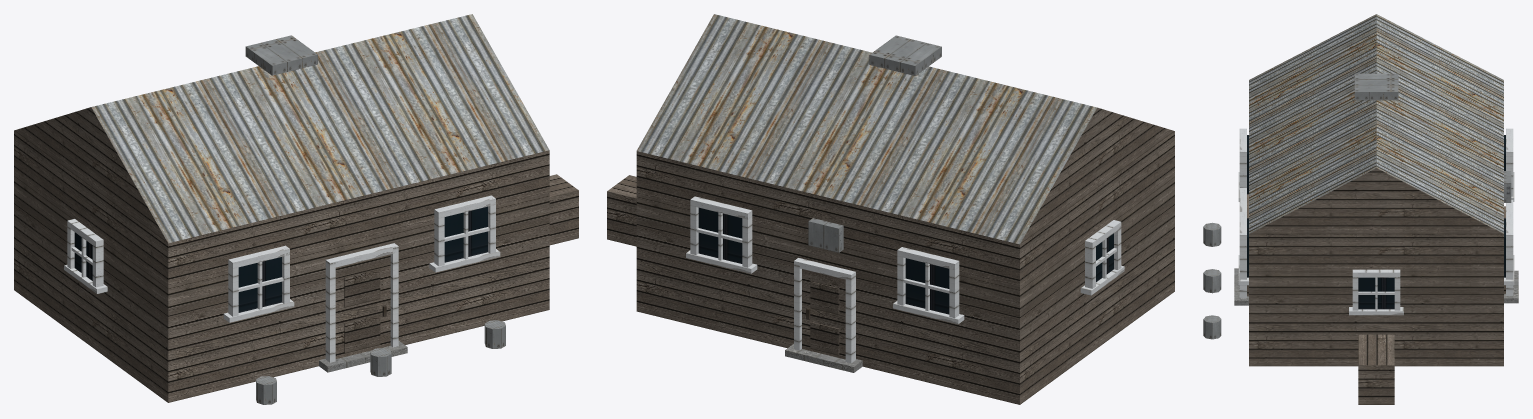
File: maple-sugar-shack_lod0.gltf
3 renders of one model, left to right at view 1: azimuth 30°, elevation 25°; view 2: azimuth 150°, elevation 25°; view 3: azimuth 270°, elevation 25°, orthographic. The views are drawn at different scales.
Visible parts, largest first — view 1: maple-sugar-shack_walls, maple-sugar-shack_roof, maple-sugar-shack_fen_20-white-clapboard_0, maple-sugar-shack_gable_ends, maple-sugar-shack_fen_07-glass-curtain-blue_5_t, maple-sugar-shack_fen_18-timber-siding_1, maple-sugar-shack_fen_18-timber-siding_2_t, maple-sugar-shack__cupola, maple-sugar-shack__firewood, maple-sugar-shack_fen_06-granite_4, maple-sugar-shack__sap_bucket_b, maple-sugar-shack__sap_bucket_c (+1 smaller); view 2: maple-sugar-shack_walls, maple-sugar-shack_roof, maple-sugar-shack_fen_20-white-clapboard_0, maple-sugar-shack_gable_ends, maple-sugar-shack_fen_07-glass-curtain-blue_5_t, maple-sugar-shack_fen_18-timber-siding_1, maple-sugar-shack__cupola, maple-sugar-shack__firewood, maple-sugar-shack_fen_18-timber-siding_2_t, maple-sugar-shack_fen_14-steel-panel_6, maple-sugar-shack_fen_06-granite_4; view 3: maple-sugar-shack_roof, maple-sugar-shack_walls, maple-sugar-shack_gable_ends, maple-sugar-shack_fen_20-white-clapboard_0, maple-sugar-shack__firewood, maple-sugar-shack_fen_07-glass-curtain-blue_5_t, maple-sugar-shack__cupola, maple-sugar-shack_fen_06-granite_4, maple-sugar-shack__sap_bucket_a, maple-sugar-shack__sap_bucket_b, maple-sugar-shack__sap_bucket_c.
Boxes of the visible parts, x1=… form: maple-sugar-shack_walls: x1=14, y1=130, x2=549, y2=402; maple-sugar-shack_roof: x1=91, y1=14, x2=549, y2=243; maple-sugar-shack_fen_20-white-clapboard_0: x1=64, y1=195, x2=500, y2=362; maple-sugar-shack_gable_ends: x1=14, y1=107, x2=167, y2=242; maple-sugar-shack_fen_07-glass-curtain-blue_5_t: x1=74, y1=206, x2=487, y2=312; maple-sugar-shack_fen_18-timber-siding_1: x1=335, y1=254, x2=390, y2=358; maple-sugar-shack_fen_18-timber-siding_2_t: x1=344, y1=268, x2=380, y2=353; maple-sugar-shack__cupola: x1=245, y1=35, x2=317, y2=75; maple-sugar-shack__firewood: x1=549, y1=174, x2=578, y2=245; maple-sugar-shack_fen_06-granite_4: x1=319, y1=341, x2=407, y2=372; maple-sugar-shack__sap_bucket_b: x1=370, y1=348, x2=391, y2=376; maple-sugar-shack__sap_bucket_c: x1=484, y1=320, x2=505, y2=348; maple-sugar-shack_walls: x1=636, y1=131, x2=1174, y2=404; maple-sugar-shack_roof: x1=636, y1=14, x2=1097, y2=244; maple-sugar-shack_fen_20-white-clapboard_0: x1=686, y1=196, x2=1124, y2=363; maple-sugar-shack_gable_ends: x1=1020, y1=107, x2=1174, y2=243; maple-sugar-shack_fen_07-glass-curtain-blue_5_t: x1=698, y1=207, x2=1113, y2=314; maple-sugar-shack_fen_18-timber-siding_1: x1=802, y1=269, x2=845, y2=359; maple-sugar-shack__cupola: x1=869, y1=35, x2=941, y2=75; maple-sugar-shack__firewood: x1=607, y1=175, x2=636, y2=246; maple-sugar-shack_fen_18-timber-siding_2_t: x1=810, y1=281, x2=839, y2=355; maple-sugar-shack_fen_14-steel-panel_6: x1=808, y1=218, x2=843, y2=252; maple-sugar-shack_fen_06-granite_4: x1=785, y1=344, x2=862, y2=372; maple-sugar-shack_roof: x1=1249, y1=14, x2=1503, y2=233; maple-sugar-shack_walls: x1=1249, y1=234, x2=1503, y2=366; maple-sugar-shack_gable_ends: x1=1249, y1=168, x2=1503, y2=234; maple-sugar-shack_fen_20-white-clapboard_0: x1=1238, y1=128, x2=1514, y2=315; maple-sugar-shack__firewood: x1=1358, y1=334, x2=1394, y2=404; maple-sugar-shack_fen_07-glass-curtain-blue_5_t: x1=1247, y1=135, x2=1505, y2=309; maple-sugar-shack__cupola: x1=1354, y1=73, x2=1398, y2=100; maple-sugar-shack_fen_06-granite_4: x1=1234, y1=268, x2=1518, y2=305; maple-sugar-shack__sap_bucket_a: x1=1203, y1=222, x2=1221, y2=246; maple-sugar-shack__sap_bucket_b: x1=1203, y1=269, x2=1221, y2=293; maple-sugar-shack__sap_bucket_c: x1=1203, y1=315, x2=1221, y2=339.
Size of the model in its own units: 12.78 by 6.25 by 8.65.
